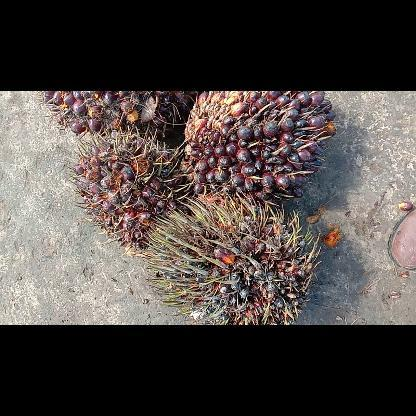Kurang masak: (182, 91, 336, 199), (72, 131, 188, 247)
TBS abnormal: (143, 192, 318, 324)
